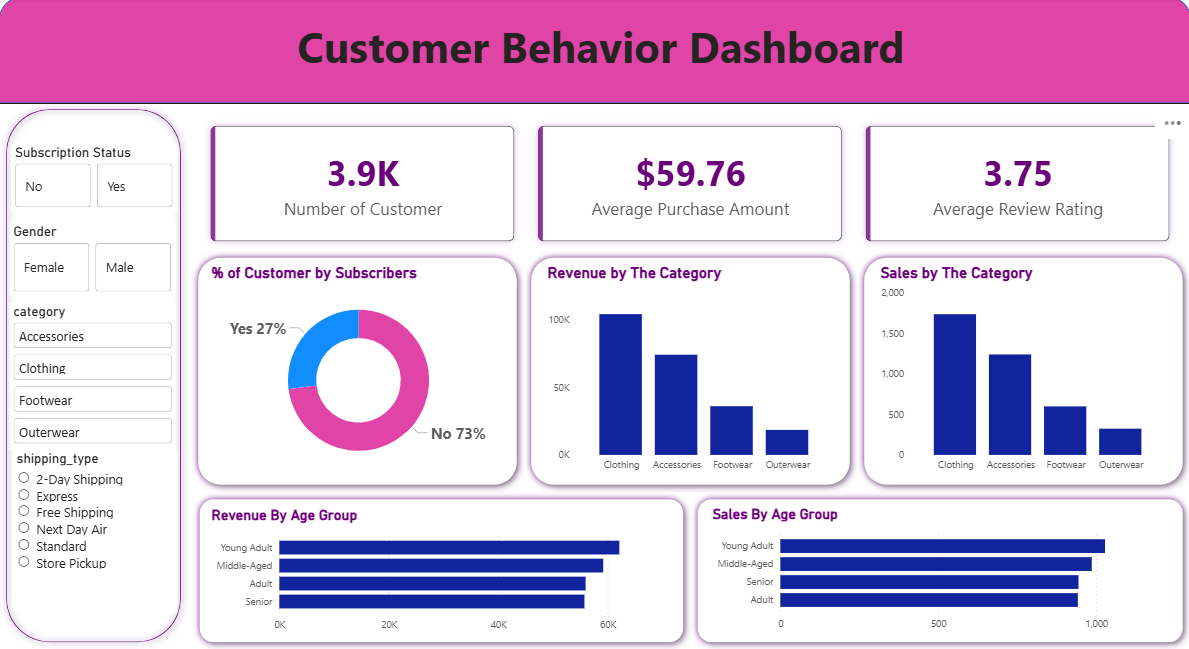

This screenshot's page, from the dashboard's own definition file:
{"tool":"powerbi","page":{"name":"Page 1","canvas":[1500,820],"ordinal":0},"visuals":[{"type":"cardVisual","fields":{"Data":["customer_behavior customer.Number of Customer","customer_behavior customer.Average Purchase Amount","customer_behavior customer.Average Review Rating"]},"box":[237.7,133.9,1262.1,201.9],"z":0},{"type":"shape","box":[0,0,1499.3,133.6],"z":1000},{"type":"textbox","box":[15.1,21.5,1484.2,112],"z":2000},{"type":"shape","box":[660.3,318.8,418.8,303.7],"z":3000},{"type":"clusteredColumnChart","title":"Revenue by The Category","fields":{"Category":["customer_behavior customer.category"],"Y":["Sum(customer_behavior customer.purchase_amount)"]},"box":[684.8,335.8,367.9,269.8],"z":4000},{"type":"shape","box":[1079.1,318.8,418.8,303.7],"z":5000},{"type":"shape","box":[241.5,318.8,418.8,303.7],"z":6000},{"type":"donutChart","title":"% of  Customer by Subscribers","fields":{"Category":["customer_behavior customer.subscription_status"],"Y":["CountNonNull(customer_behavior customer.customer_id)"]},"box":[262.2,335.8,379.2,269.8],"z":7000},{"type":"clusteredColumnChart","title":"Sales by The Category","fields":{"Category":["customer_behavior customer.category"],"Y":["CountNonNull(customer_behavior customer.customer_id)"]},"box":[1103.6,335.8,367.9,269.8],"z":8000},{"type":"shape","box":[0,132.1,237.7,688.6],"z":9000},{"type":"advancedSlicerVisual","title":"Subscription Status","fields":{"Values":["customer_behavior customer.subscription_status"]},"box":[15.1,184.9,209.4,84.9],"z":10000},{"type":"advancedSlicerVisual","title":"Gender","fields":{"Values":["customer_behavior customer.gender"]},"box":[13.2,284.9,209.4,90.6],"z":11000},{"type":"advancedSlicerVisual","title":"category","fields":{"Values":["customer_behavior customer.category"]},"box":[13.2,384.9,209.4,184.9],"z":11001},{"type":"listSlicer","fields":{"Values":["customer_behavior customer.shipping_type"]},"box":[17,569.7,207.5,203.7],"z":11002},{"type":"shape","box":[243.4,622.6,626.3,198.1],"z":11003},{"type":"clusteredBarChart","title":"Revenue By Age Group","fields":{"Y":["Sum(customer_behavior customer.purchase_amount)"],"Category":["customer_behavior customer.age_group"]},"box":[262.2,641.4,586.7,166],"z":11004},{"type":"shape","box":[869.7,622.6,628.2,198.1],"z":11005},{"type":"clusteredBarChart","title":"Sales By Age Group","fields":{"Y":["CountNonNull(customer_behavior customer.customer_id)"],"Category":["customer_behavior customer.age_group"]},"box":[892.3,639.5,586.7,166],"z":11006}]}

Visuals, with their boxes in screenshot pixels (x1, y1, x2, y2), scaled from the page's 1500x820 canvas onto the 1189x649 screenshot:
cardVisual - customer_behavior customer.Number of Customer x customer_behavior customer.Average Purchase Amount: [188, 106, 1188, 266]
shape: [0, 0, 1188, 106]
textbox: [12, 17, 1188, 106]
shape: [523, 252, 855, 493]
"Revenue by The Category" clusteredColumnChart: [543, 266, 834, 479]
shape: [855, 252, 1187, 493]
shape: [191, 252, 523, 493]
"% of  Customer by Subscribers" donutChart: [208, 266, 508, 479]
"Sales by The Category" clusteredColumnChart: [875, 266, 1166, 479]
shape: [0, 105, 188, 648]
"Subscription Status" advancedSlicerVisual: [12, 146, 178, 214]
"Gender" advancedSlicerVisual: [10, 225, 176, 297]
"category" advancedSlicerVisual: [10, 305, 176, 451]
listSlicer - customer_behavior customer.shipping_type: [13, 451, 178, 612]
shape: [193, 493, 689, 648]
"Revenue By Age Group" clusteredBarChart: [208, 508, 673, 639]
shape: [689, 493, 1187, 648]
"Sales By Age Group" clusteredBarChart: [707, 506, 1172, 638]
